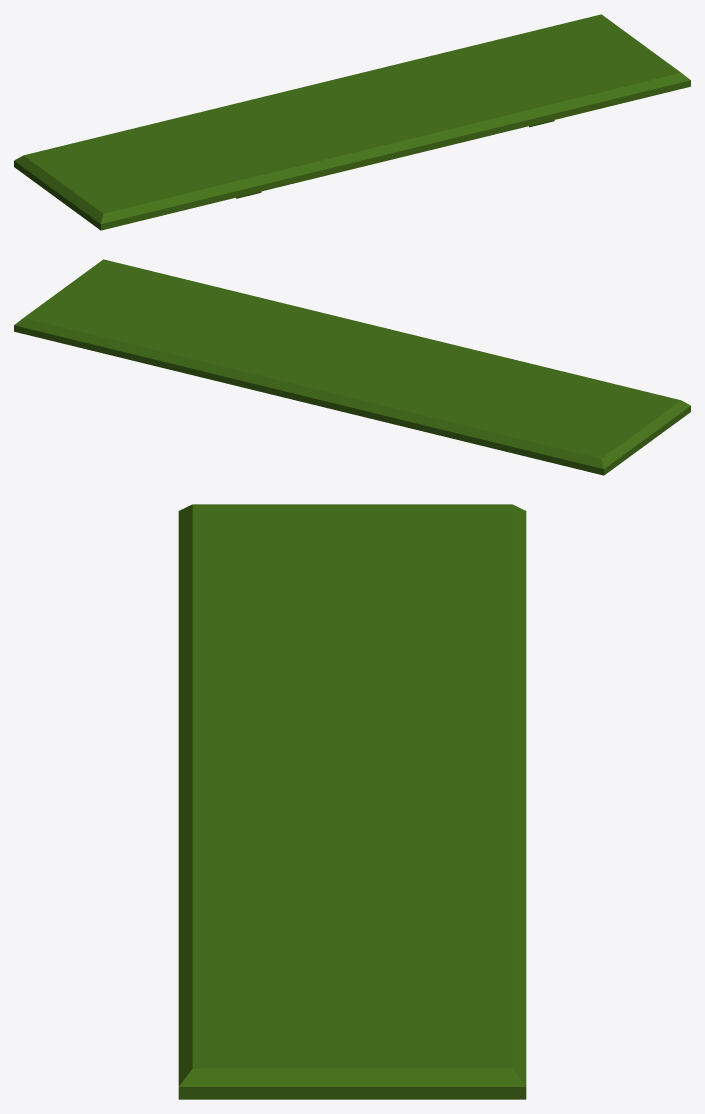
Rendered from Drill Lid.FBX.
3 views of the same model, one above another, from view 1: azimuth 30°, elevation 25°; view 2: azimuth 150°, elevation 25°; view 3: azimuth 270°, elevation 25° (orthographic). The views are drawn at different scales.
Visible parts, largest first — view 1: Group_048, Group_049; view 2: Group_048, Group_049; view 3: Group_049, Group_048.
Boxes of the visible parts, bbox=[...] form: Group_048: bbox=[14, 85, 395, 230]; Group_049: bbox=[313, 14, 690, 158]; Group_048: bbox=[309, 330, 690, 475]; Group_049: bbox=[14, 259, 391, 403]; Group_049: bbox=[178, 786, 526, 1099]; Group_048: bbox=[178, 504, 526, 798].
Size of the model in its own units: 145 by 3.5 by 37.
